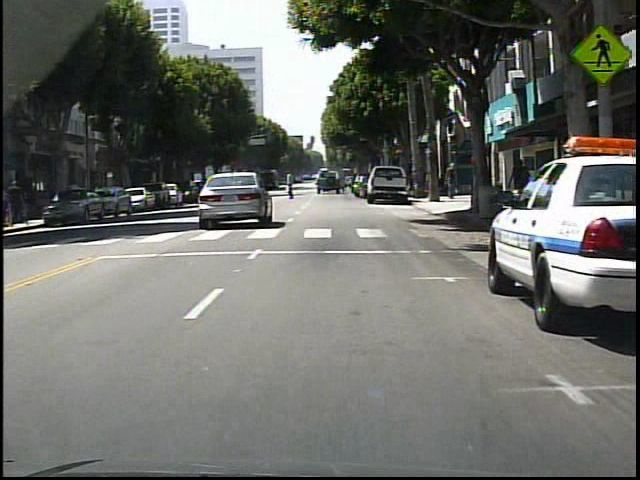person: (506, 157, 529, 218), (14, 180, 28, 226), (444, 160, 460, 200), (2, 186, 15, 226), (283, 169, 299, 200)
